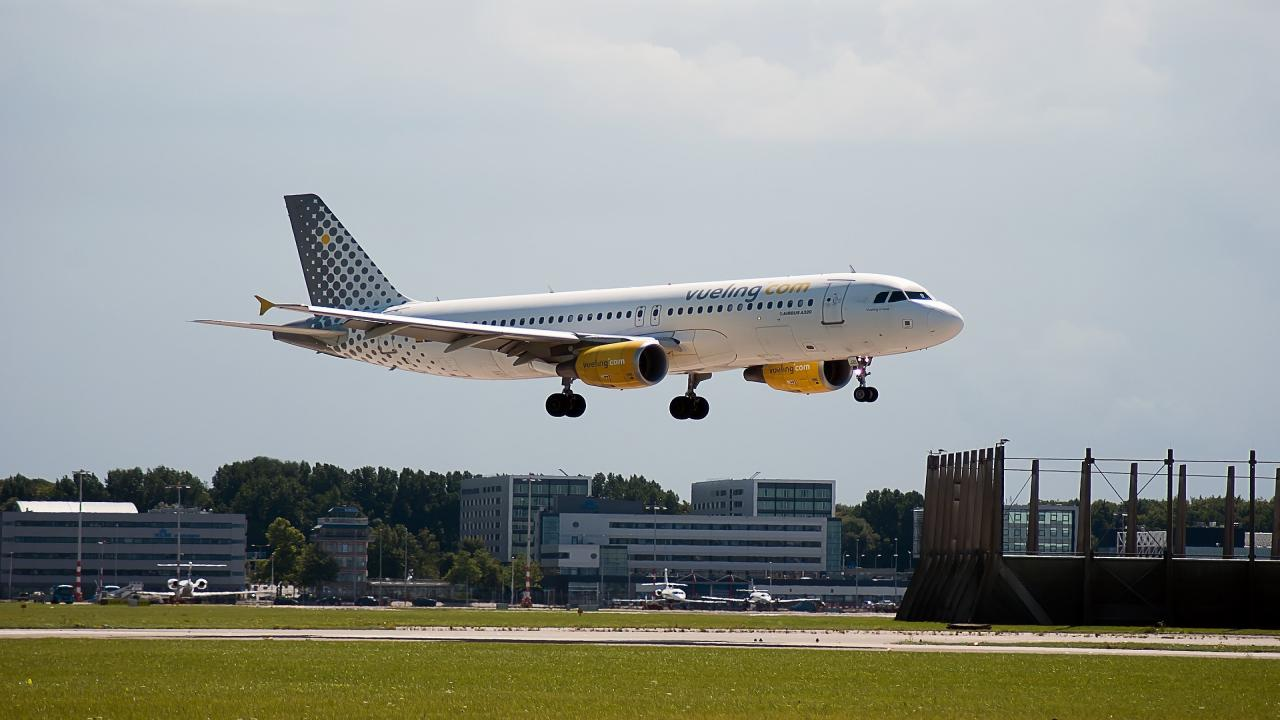Airplane: (187, 185, 978, 430)
